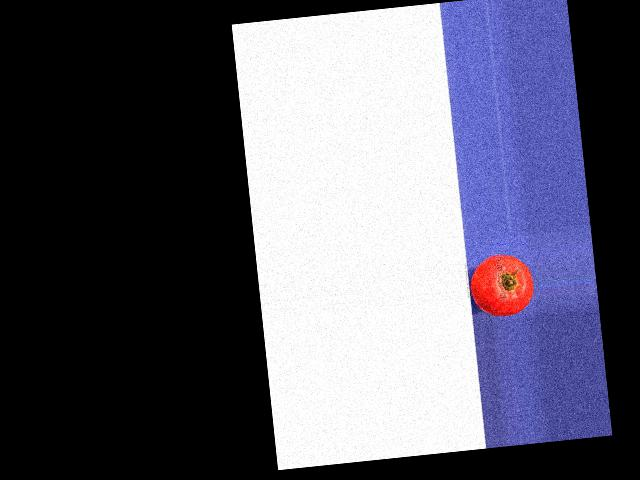tomato: (468, 252, 536, 319)
